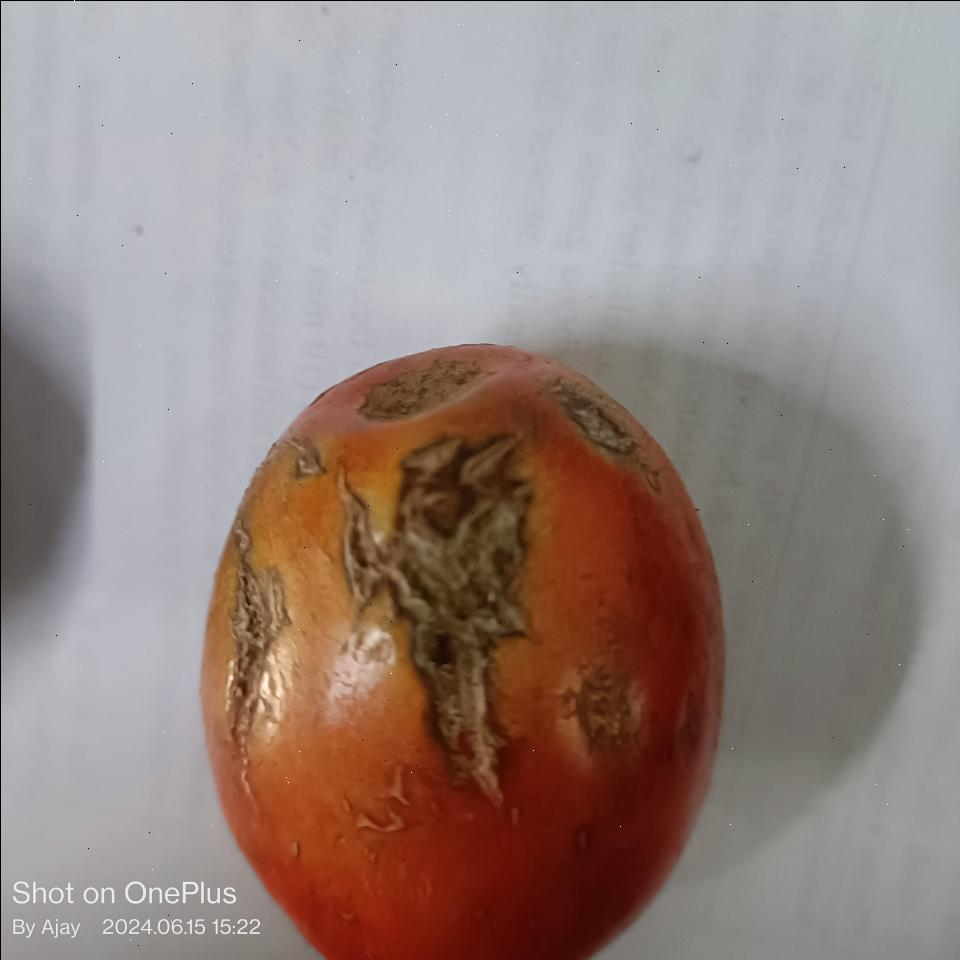Cracking: (341, 417, 552, 805), (220, 498, 306, 774), (529, 364, 648, 501)
